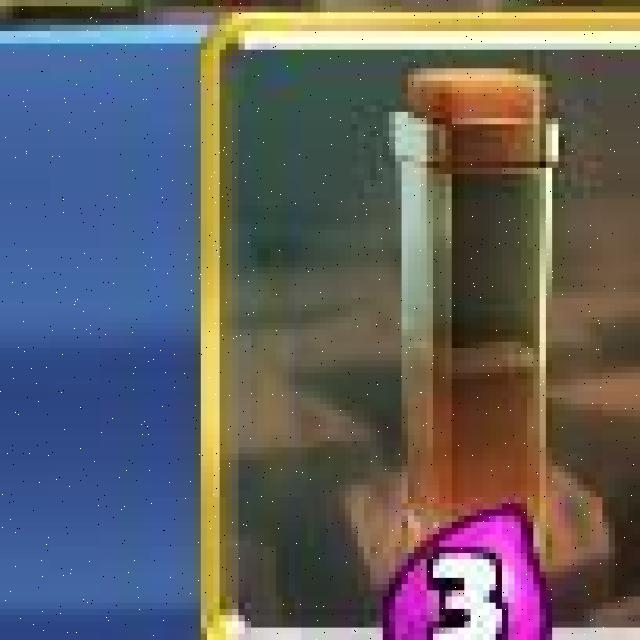Earthquake: (197, 10, 640, 640)
